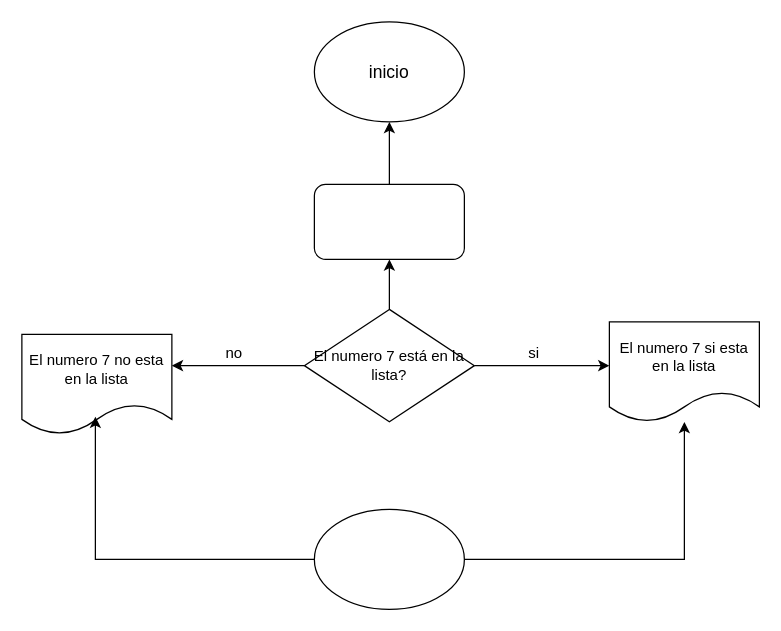
The diagram is 781 pixels wide and 631 high, and some of its shapes have lost their labels. Each missing label, with the centre of its shape:
Fin: point 388,558
lista = [3, 5, 7, 9]: point 388,221
